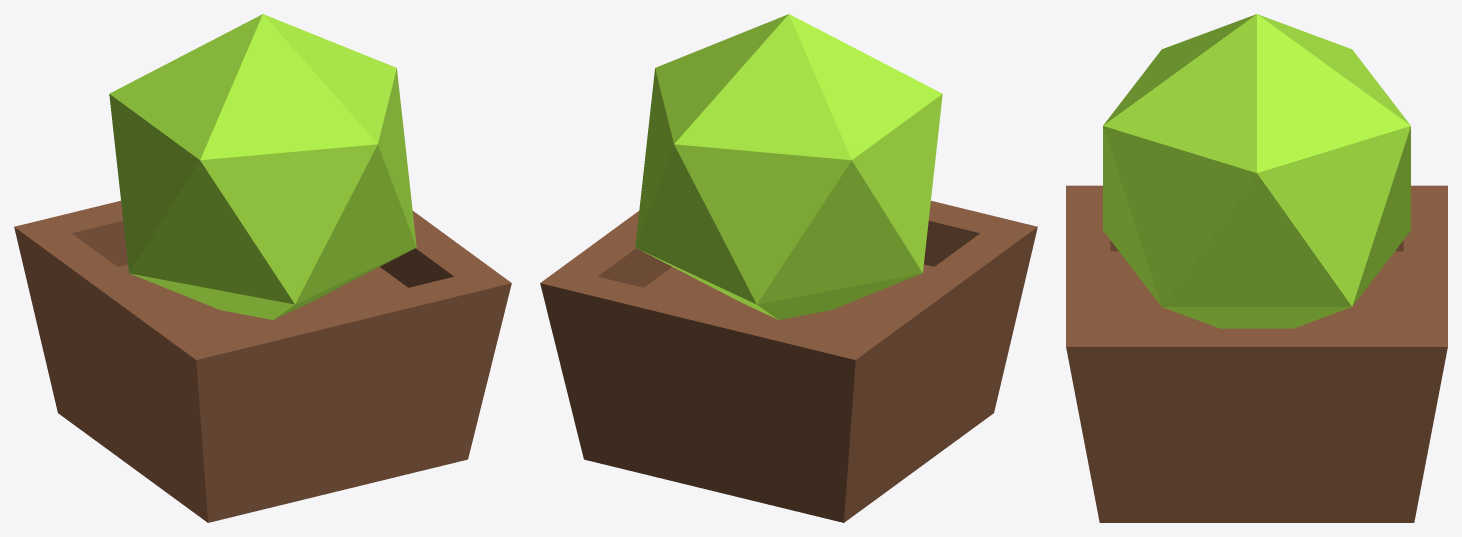
Rendered from natures-pot-bush-small.glb.
The picture shows the model from 3 angles, left to right: view 1: azimuth 30°, elevation 25°; view 2: azimuth 150°, elevation 25°; view 3: azimuth 270°, elevation 25°; orthographic projection. The views are drawn at different scales.
Visible parts, largest first — view 1: model; view 2: model; view 3: model.
Part boxes in pixels (x1=…): model: x1=14, y1=14, x2=511, y2=522; model: x1=540, y1=14, x2=1037, y2=522; model: x1=1066, y1=14, x2=1447, y2=522.
Bounding box in the file's own units: 0.7283 × 0.9314 × 0.7283.
Materials: 1 (1 with a texture image).
